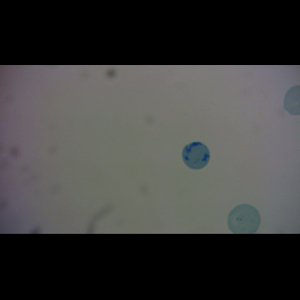aggregate reticulocyte: (181, 141, 211, 170)
punctate reticulocyte: (226, 203, 262, 234)
